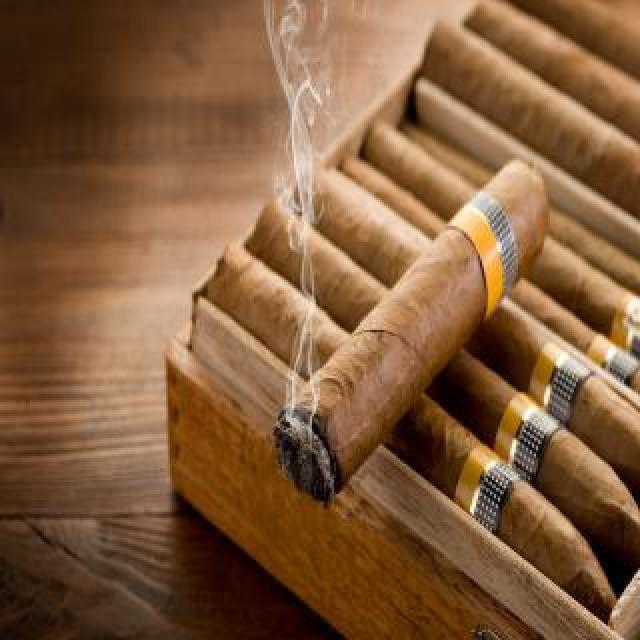Smoke: (258, 6, 354, 446)
